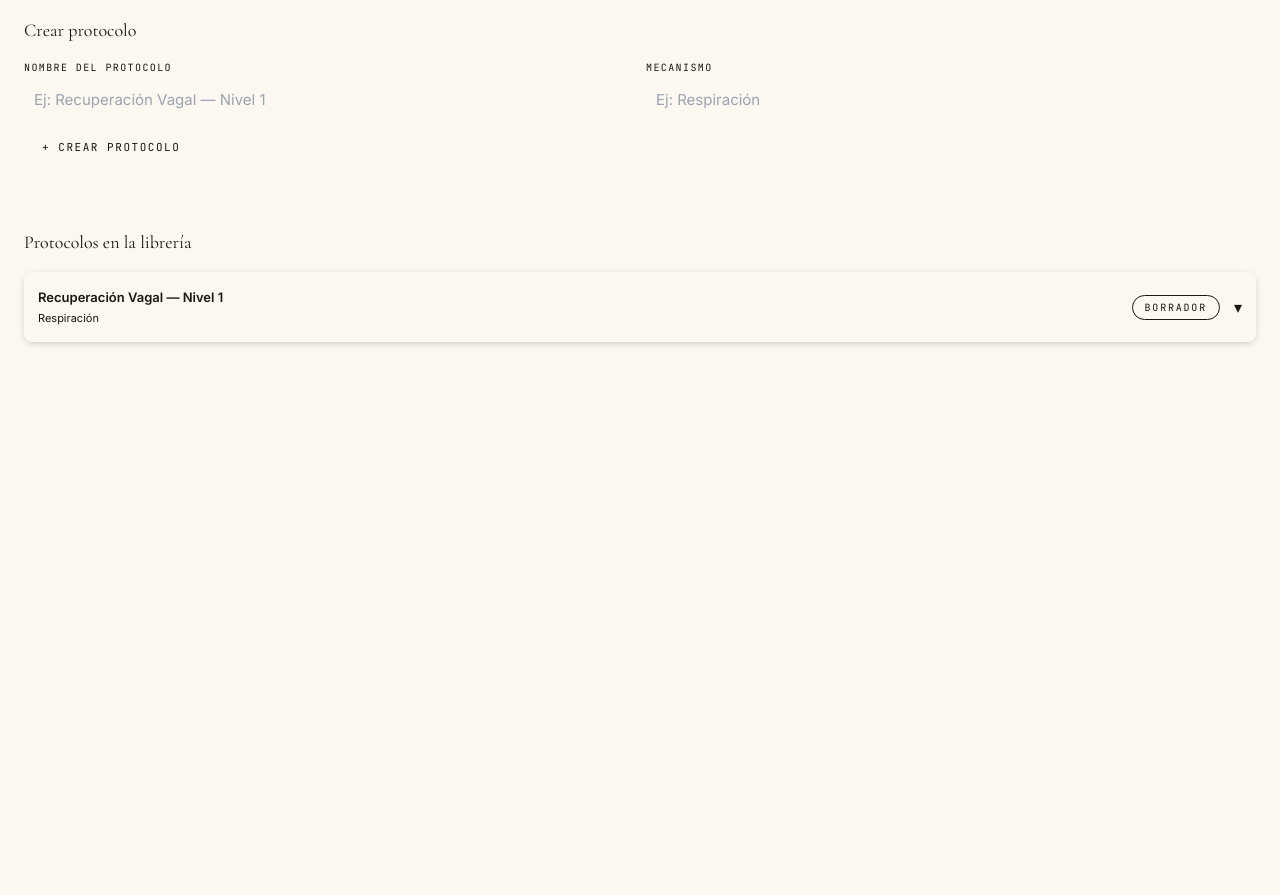
Test: AdminStressProtocolsPanel › shows Recursos del protocolo, then Baseline, then Asignar a clientes activos, in that order
Click the button "Recuperación Vagal — Nivel 1 Respiración Borrador ▾" at (131, 297), box [38,276,1242,338]
(page scrolled)
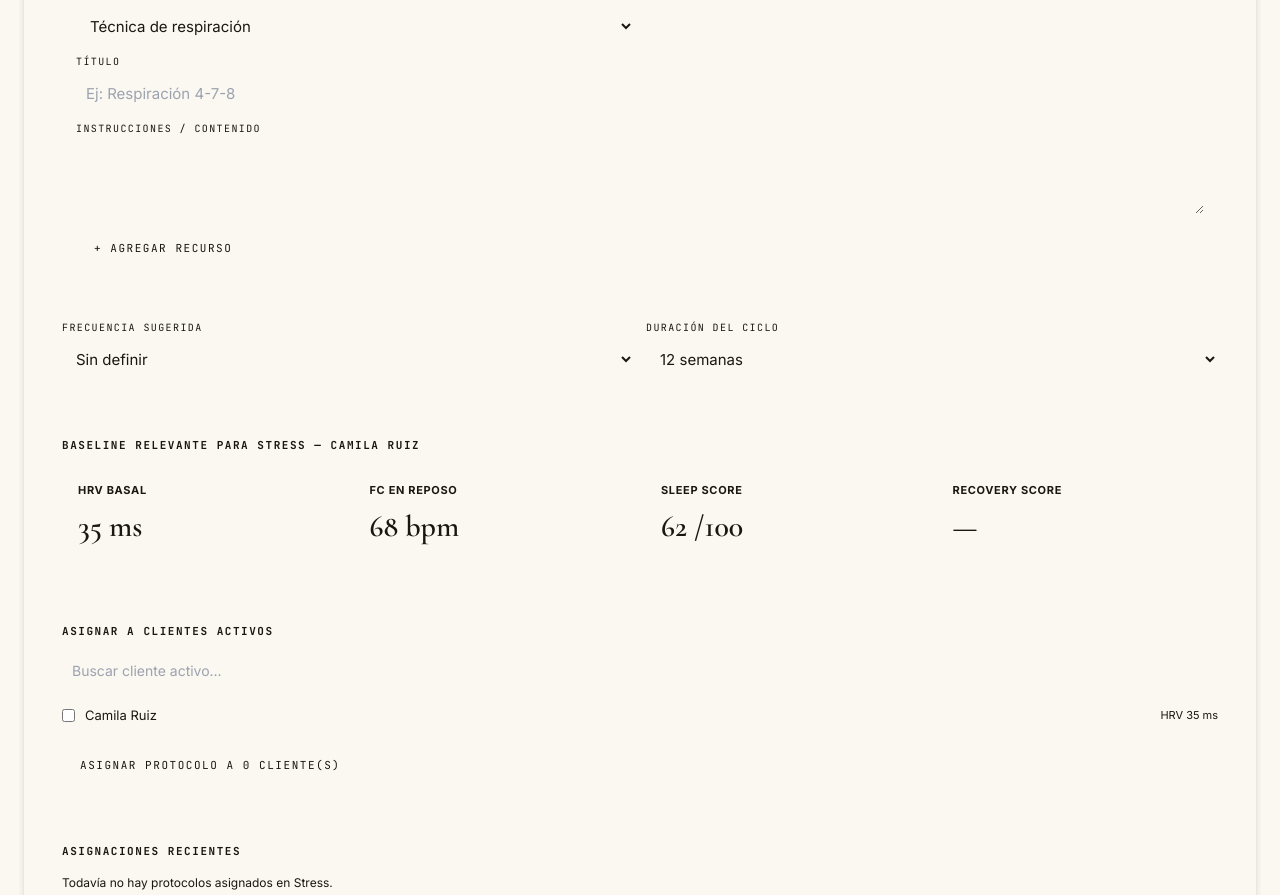
Check: the text "Baseline relevante para Stress — Camila Ruiz" is shown, box [62,438,420,452]
